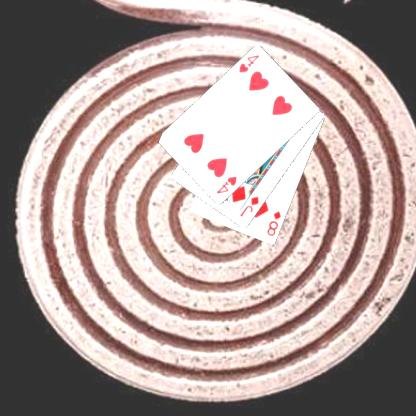4H: (236, 52, 261, 75), (214, 174, 238, 195)
8D: (264, 208, 282, 238)
JD: (237, 194, 260, 218)
